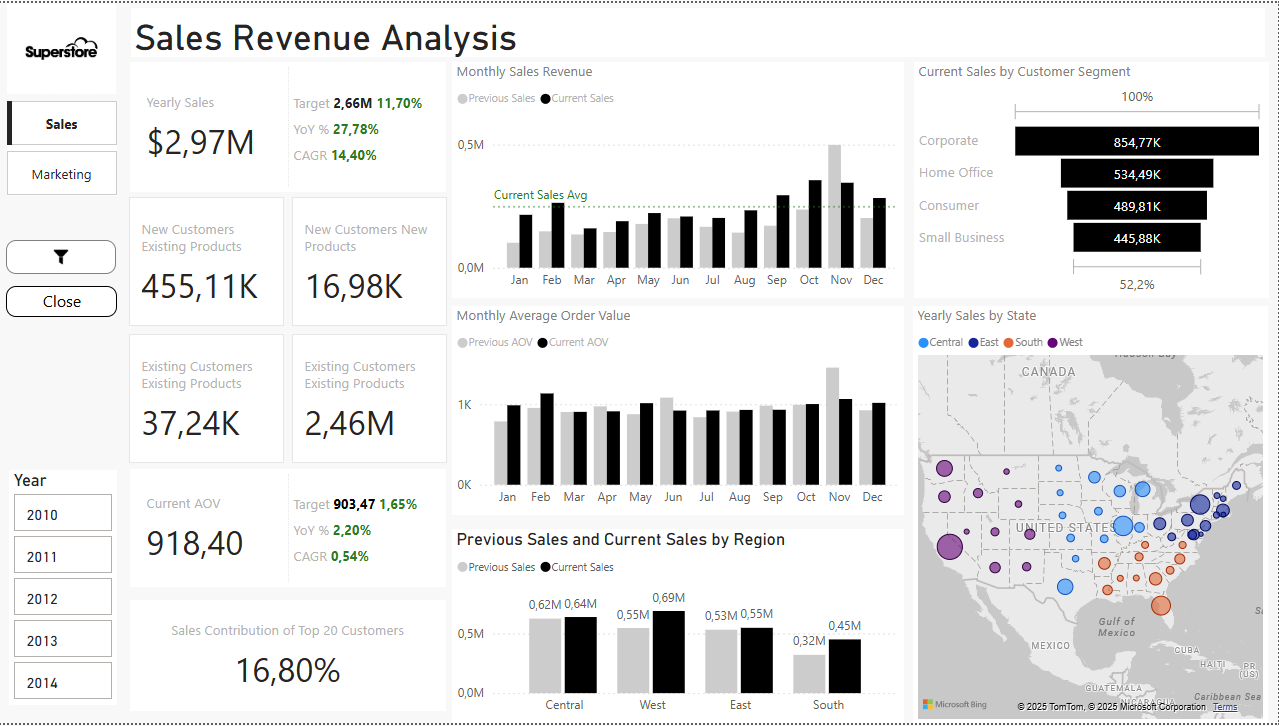

Layout of this report page (visuals, bound fields, positions):
{"tool":"powerbi","page":{"name":"Sales ","canvas":[1280,720],"ordinal":0},"visuals":[{"type":"pageNavigator","box":[8.6,98.2,110.5,94.5],"z":0},{"type":"advancedSlicerVisual","fields":{"Values":["DateTable.Year"]},"box":[10.8,466.8,108.6,235.2],"z":1000},{"type":"cardVisual","fields":{"Data":["Sales Metrics.Selected Year Sales"]},"box":[132.1,58.5,315.7,130.3],"z":2000},{"type":"cardVisual","fields":{"Data":["Sales Metrics.NewCustOldProdsSales","Sales Metrics.NewCustNewProds","Sales Metrics.OldCustNewProds","Sales Metrics.OldCustOldProds"]},"box":[125.9,188.9,328.1,277.5],"z":3000},{"type":"clusteredColumnChart","title":"Monthly Sales Revenue","fields":{"Category":["DateTable.Month Short Name"],"Y":["Sales Metrics.Previous Sales","Sales Metrics.Current Sales"]},"box":[454,58.5,452.2,236.7],"z":4000},{"type":"clusteredColumnChart","title":"Monthly Average Order Value","fields":{"Category":["DateTable.Month Short Name"],"Y":["Sales Metrics.Previous AOV","Sales Metrics.Current AOV"]},"box":[454,303.3,452.2,208.4],"z":5000},{"type":"cardVisual","fields":{"Data":["Sales Metrics.Current AOV"]},"box":[132.1,466.4,315.7,117.9],"z":6000},{"type":"funnel","fields":{"Y":["Sales Metrics.Current Sales"],"Category":["cleaned_data.Customer Segment"]},"box":[916,58.5,354.7,236.7],"z":7000},{"type":"cardVisual","fields":{"Data":["Marketing Metrics.Top20CustomersContribution"]},"box":[132.1,596.7,315.7,111.7],"z":8000},{"type":"clusteredColumnChart","fields":{"Category":["cleaned_data.Region"],"Y":["Sales Metrics.Previous Sales","Sales Metrics.Current Sales"]},"box":[454,525.8,452.2,194.2],"z":9000},{"type":"map","title":"Yearly Sales by State ","fields":{"Category":["cleaned_data.State or Province"],"Size":["Sales Metrics.Current Sales"],"Series":["cleaned_data.Region"]},"box":[915.5,303.2,354.9,417.4],"z":10000},{"type":"image","box":[8.6,0,109.2,90.8],"z":11000},{"type":"image","title":"Filter","box":[8.4,237,109.5,33.7],"z":12000},{"type":"actionButton","title":"Close","box":[8.4,282.7,110.7,31.3],"z":14000},{"type":"cardVisual","fields":{"Data":["Sales Metrics.SlsTitle"]},"box":[128.4,0,1143.1,58.5],"z":15000}]}

Visuals, with their boxes in screenshot pixels (x1, y1, x2, y2), scaled from the page's 1280x720 canvas onto the 1279x726 screenshot:
pageNavigator: box(9, 99, 119, 194)
advancedSlicerVisual - DateTable.Year: box(11, 471, 119, 708)
cardVisual - Sales Metrics.Selected Year Sales: box(132, 59, 447, 190)
cardVisual - Sales Metrics.NewCustOldProdsSales x Sales Metrics.NewCustNewProds: box(126, 190, 454, 470)
"Monthly Sales Revenue" clusteredColumnChart: box(454, 59, 905, 298)
"Monthly Average Order Value" clusteredColumnChart: box(454, 306, 905, 516)
cardVisual - Sales Metrics.Current AOV: box(132, 470, 447, 589)
funnel - Sales Metrics.Current Sales x cleaned_data.Customer Segment: box(915, 59, 1270, 298)
cardVisual - Marketing Metrics.Top20CustomersContribution: box(132, 602, 447, 714)
clusteredColumnChart - cleaned_data.Region x Sales Metrics.Previous Sales: box(454, 530, 905, 725)
"Yearly Sales by State " map: box(915, 306, 1269, 725)
image: box(9, 0, 118, 92)
"Filter" image: box(8, 239, 118, 273)
"Close" actionButton: box(8, 285, 119, 317)
cardVisual - Sales Metrics.SlsTitle: box(128, 0, 1271, 59)
